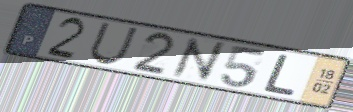2: (130, 30, 180, 77), (44, 16, 88, 61)
5: (217, 44, 268, 90)
L: (260, 53, 298, 98)
N: (169, 35, 228, 83)
U: (86, 21, 141, 66)
